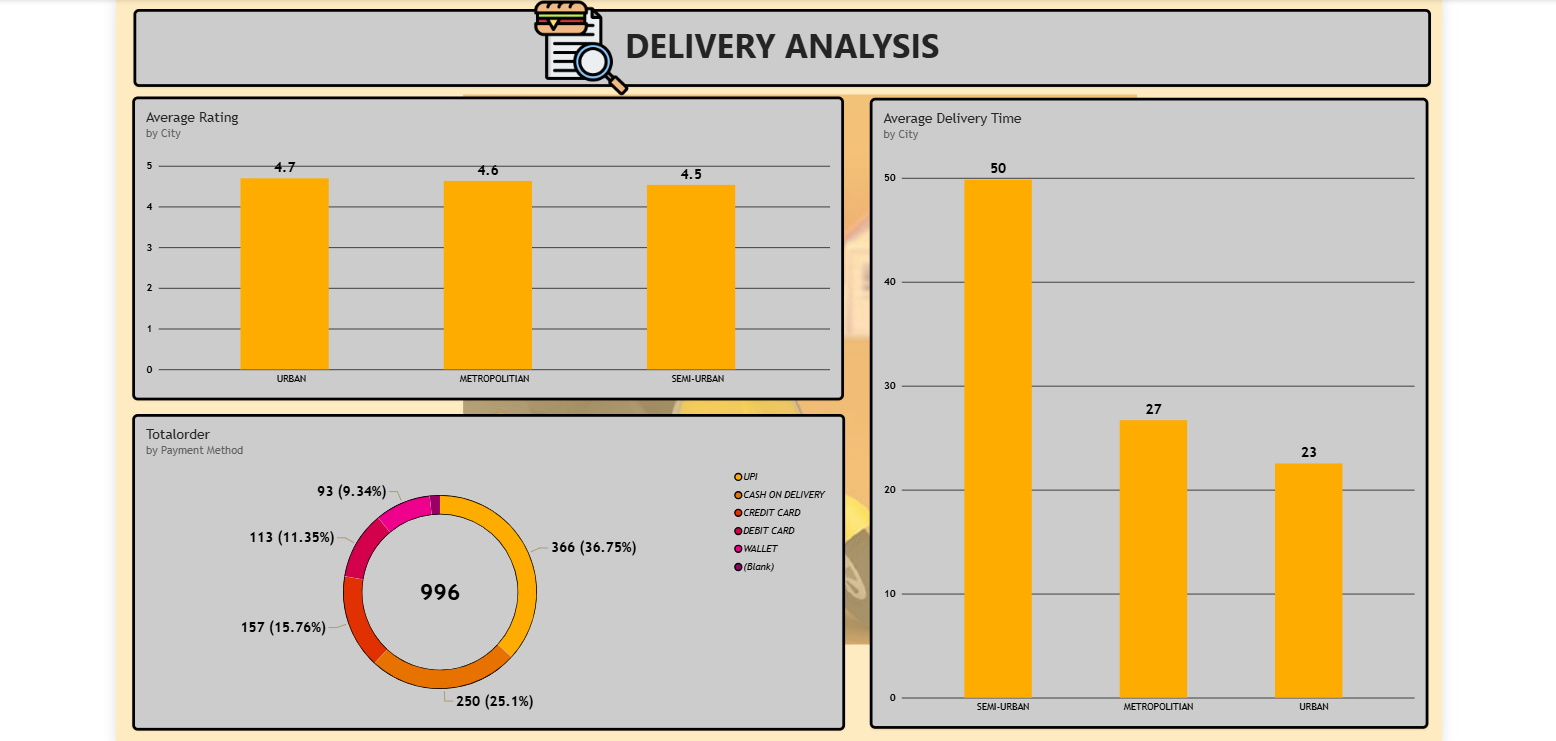

This screenshot's page, from the dashboard's own definition file:
{"tool":"powerbi","page":{"name":"Delivery Analysis","canvas":[1920,1080],"ordinal":1},"visuals":[{"type":"clusteredColumnChart","fields":{"Category":["Delivery Table.City"],"Y":["Delivery Table.Average Delivery Time"]},"box":[1091.1,142.8,809.2,913.5],"z":0},{"type":"textbox","box":[397.3,0,1054.5,117.2],"z":1000},{"type":"textbox","box":[25,14.6,1878.5,112.6],"z":2000},{"type":"columnChart","fields":{"Category":["Delivery Table.City"],"Y":["Delivery Table.Average Rating"]},"box":[24,142,1030,440],"z":3000},{"type":"donutChart","fields":{"Category":["Delivery Table.Payment Method"],"Y":["Delivery Table.Totalorder"]},"box":[24,600,1032,458],"z":4000},{"type":"image","box":[540,0,269,141.8],"z":5000}]}

Visuals, with their boxes in screenshot pixels (x1, y1, x2, y2):
clusteredColumnChart - Delivery Table.City x Delivery Table.Average Delivery Time: pyautogui.locateOnScreen(868, 97, 1416, 715)
textbox: pyautogui.locateOnScreen(399, 0, 1113, 79)
textbox: pyautogui.locateOnScreen(147, 10, 1419, 86)
columnChart - Delivery Table.City x Delivery Table.Average Rating: pyautogui.locateOnScreen(146, 96, 843, 394)
donutChart - Delivery Table.Payment Method x Delivery Table.Totalorder: pyautogui.locateOnScreen(146, 406, 845, 716)
image: pyautogui.locateOnScreen(495, 0, 677, 96)
